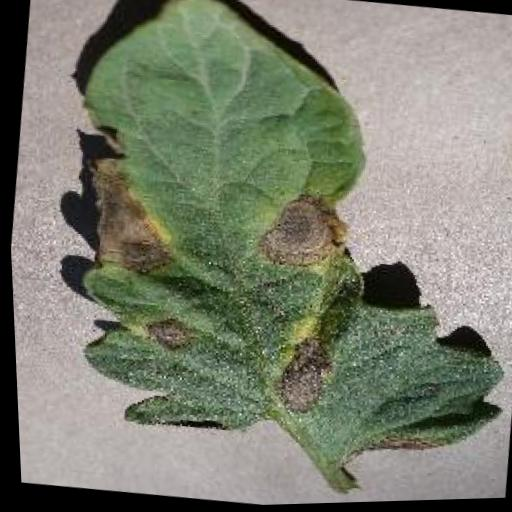Early Blight: (44, 0, 512, 488)
